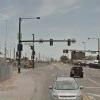Traffic light: (31, 31, 77, 51)
